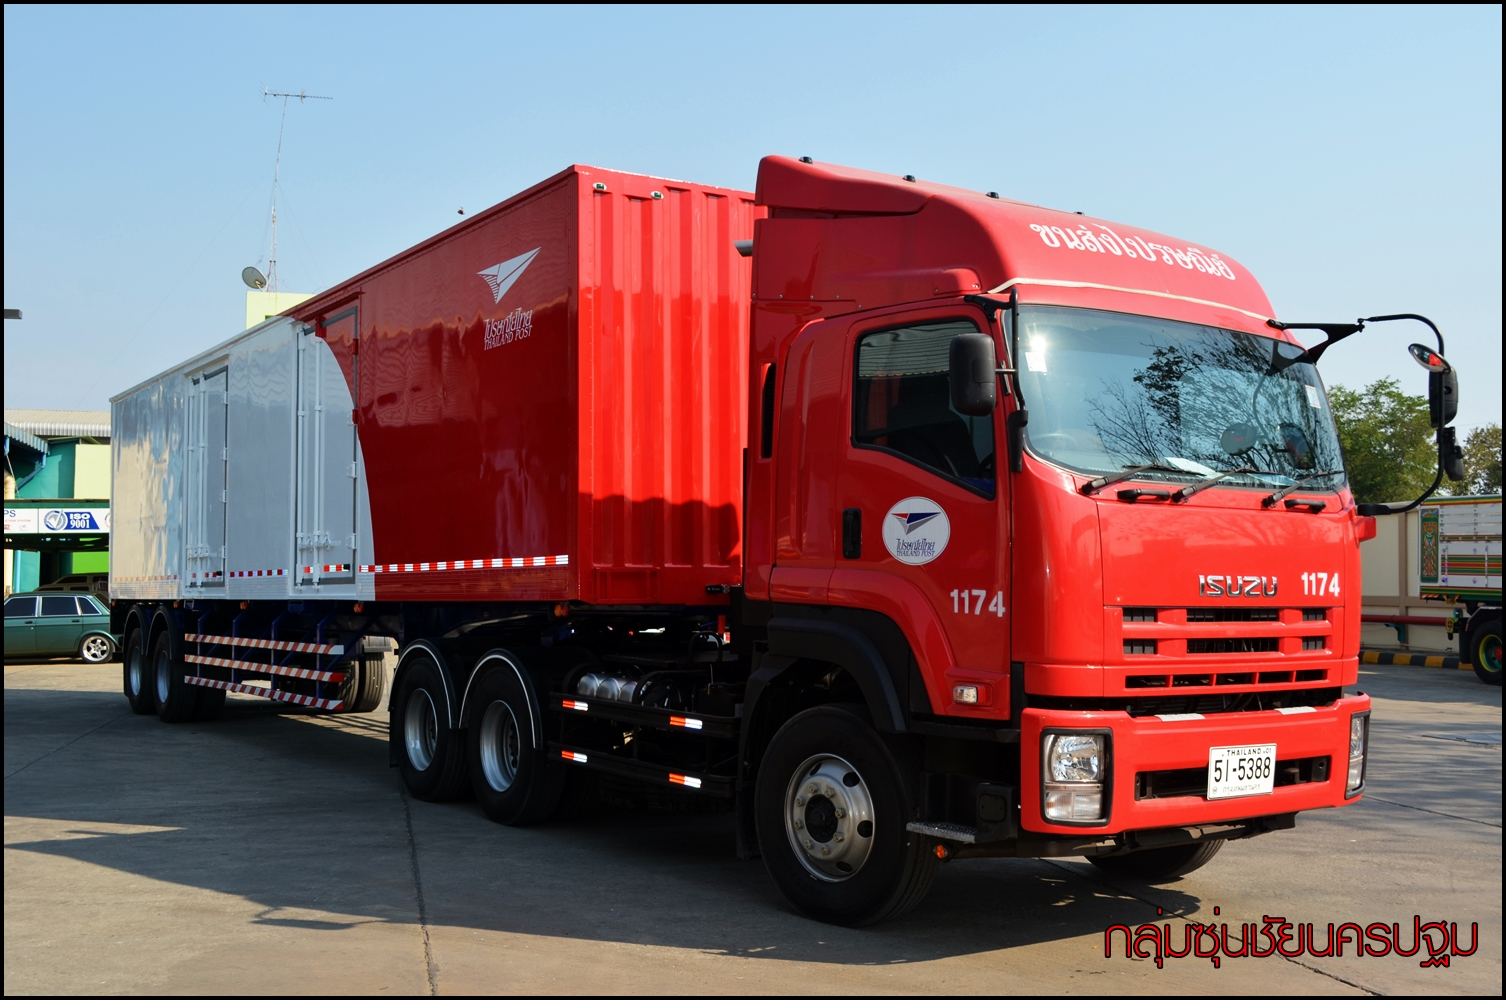truck: (743, 133, 1378, 915)
